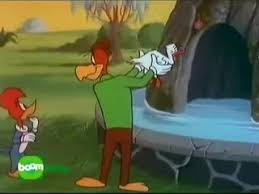picapau: (2, 73, 47, 182)
urubu: (69, 35, 156, 194)
